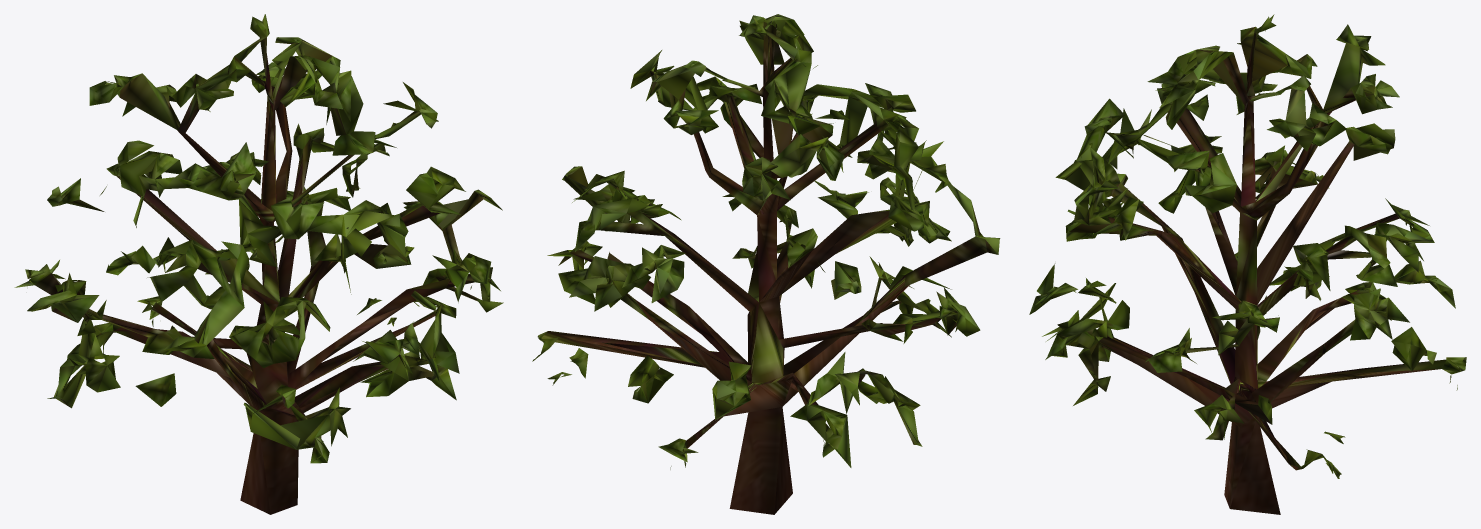
File: tree-low.glb
3 views of the same model, side by side, from view 1: azimuth 30°, elevation 25°; view 2: azimuth 150°, elevation 25°; view 3: azimuth 270°, elevation 25° (orthographic).
Visible parts, largest first — view 1: tripo_node_cd536999; view 2: tripo_node_cd536999; view 3: tripo_node_cd536999.
Boxes of the visible parts, box(x1,y1,x2,y2) form: tripo_node_cd536999: box(14, 14, 503, 514); tripo_node_cd536999: box(532, 14, 1000, 514); tripo_node_cd536999: box(1029, 14, 1466, 514).
Bounding box in the file's own units: 0.9186 × 0.9511 × 0.77.
Materials: 1 (1 with a texture image).
